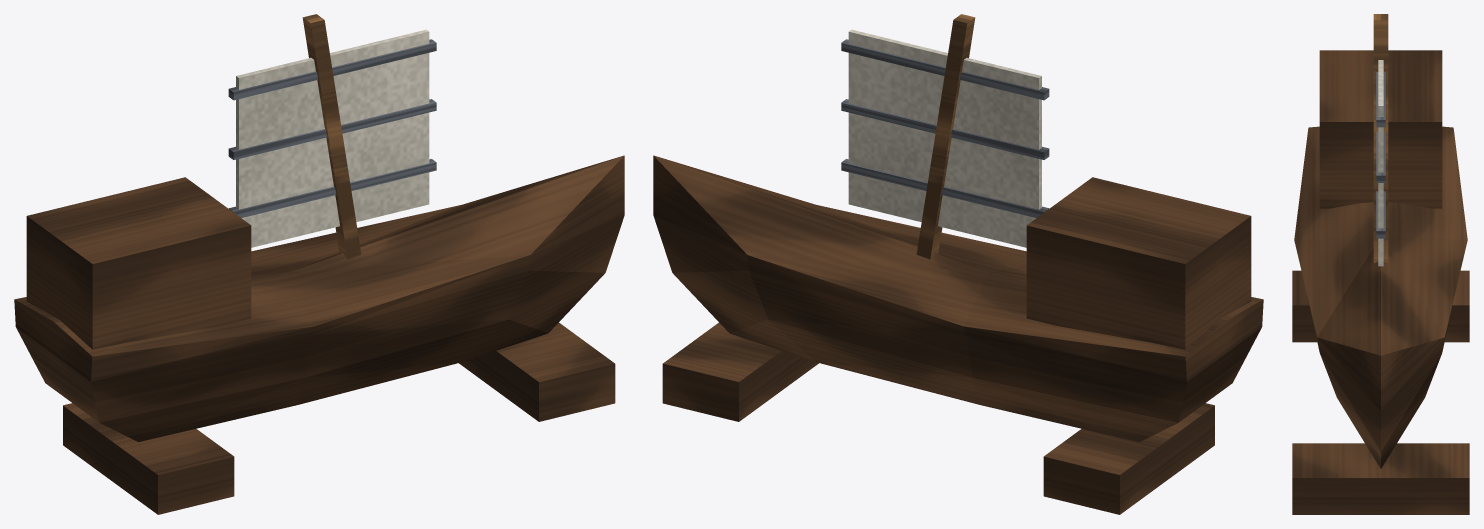
File: junk_model.fbx
3 views of the same model, side by side, from view 1: azimuth 30°, elevation 25°; view 2: azimuth 150°, elevation 25°; view 3: azimuth 270°, elevation 25° (orthographic). The views are drawn at different scales.
Visible parts, largest first — view 1: junk_model; view 2: junk_model; view 3: junk_model.
Part boxes in pixels (box(x1,y1,x2,y2)): junk_model: box(14, 14, 624, 514); junk_model: box(653, 14, 1263, 514); junk_model: box(1292, 14, 1469, 514).
Size of the model in its own units: 90 by 62 by 26.
